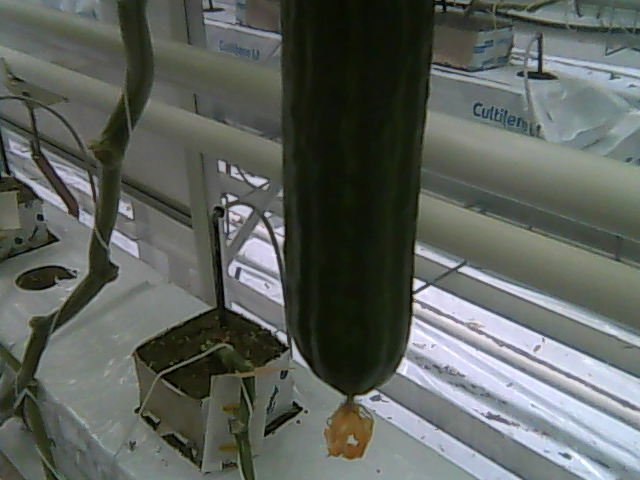concombre: (273, 1, 438, 461)
